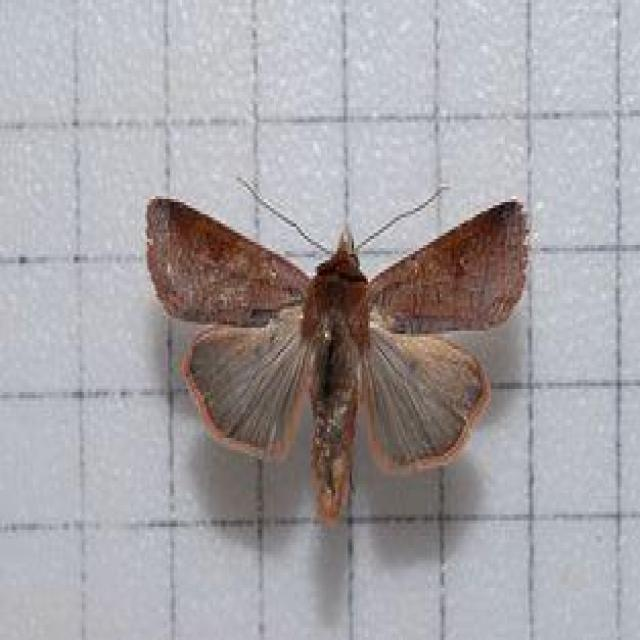BeetArmyWorm-Adult-: (131, 165, 544, 554)
